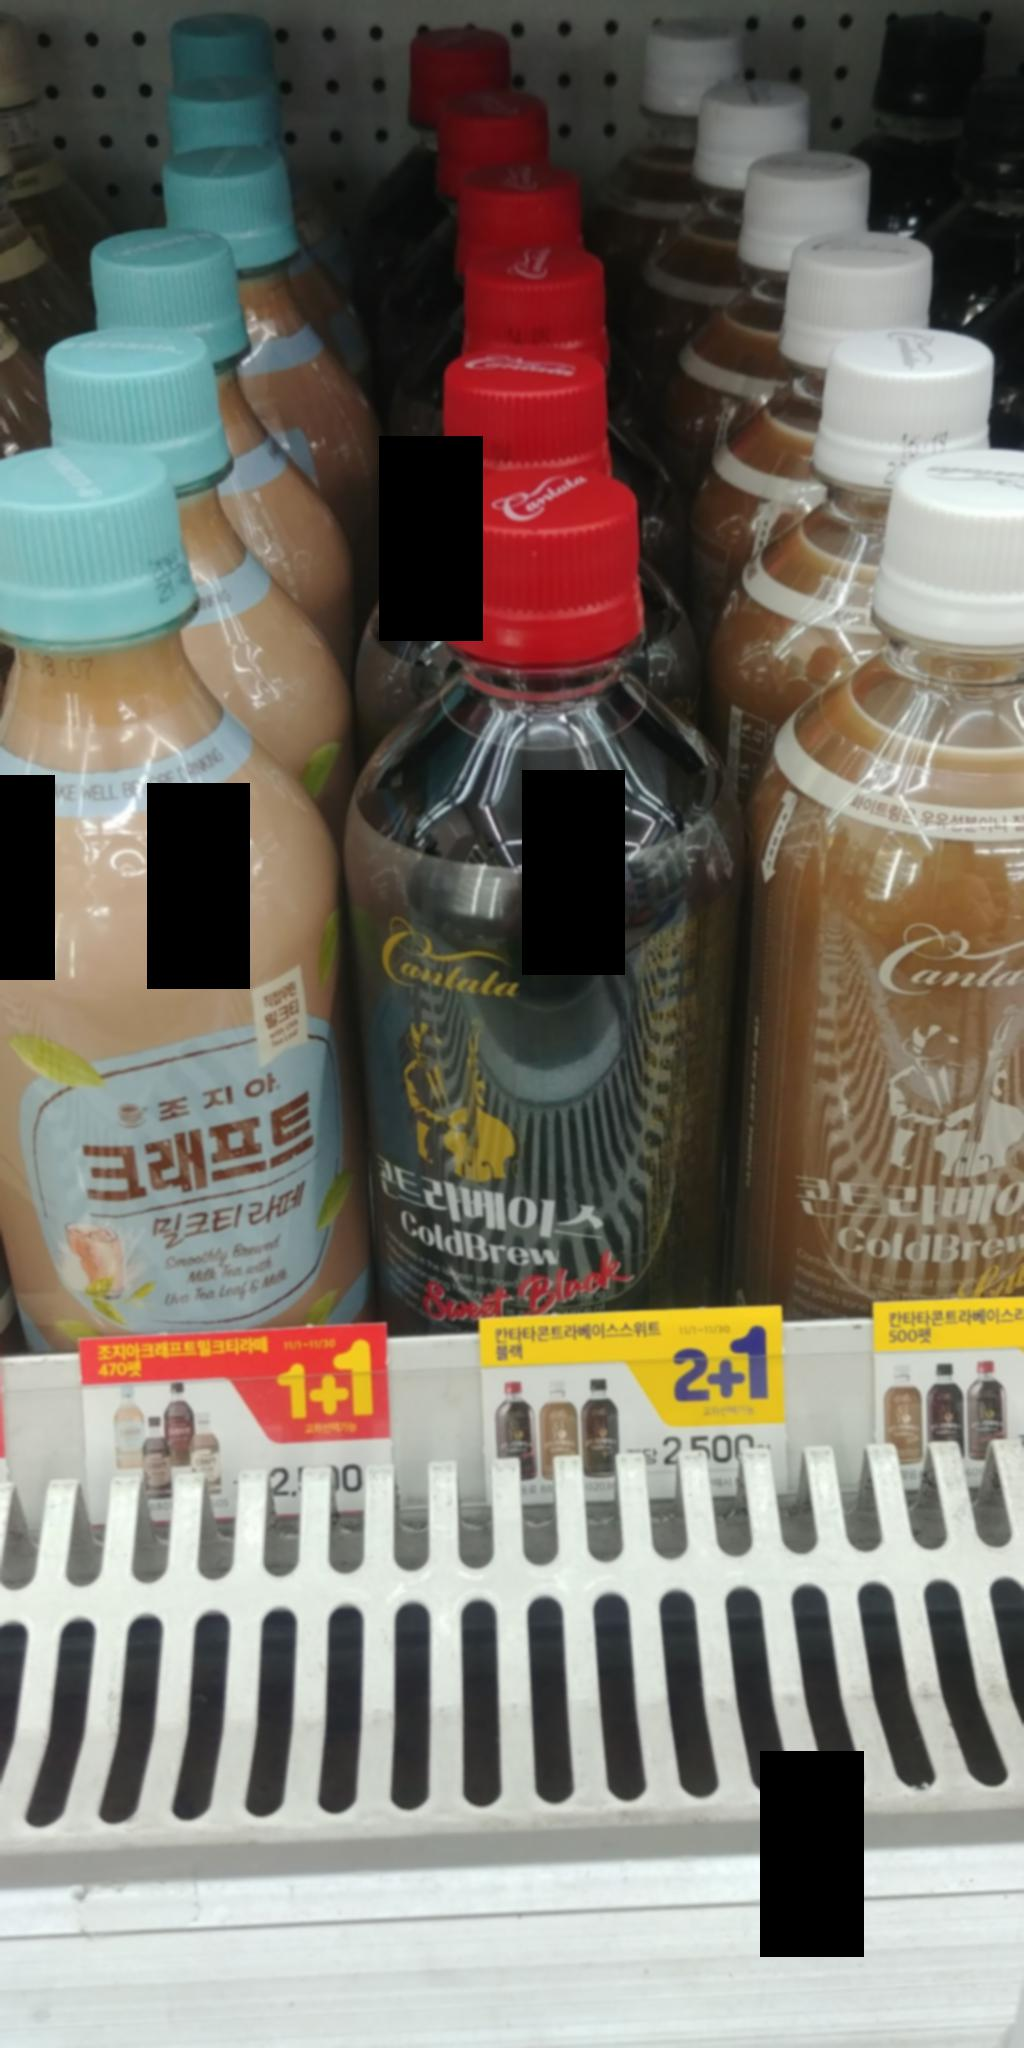contrabass_sweetblack: (346, 470, 741, 1326)
